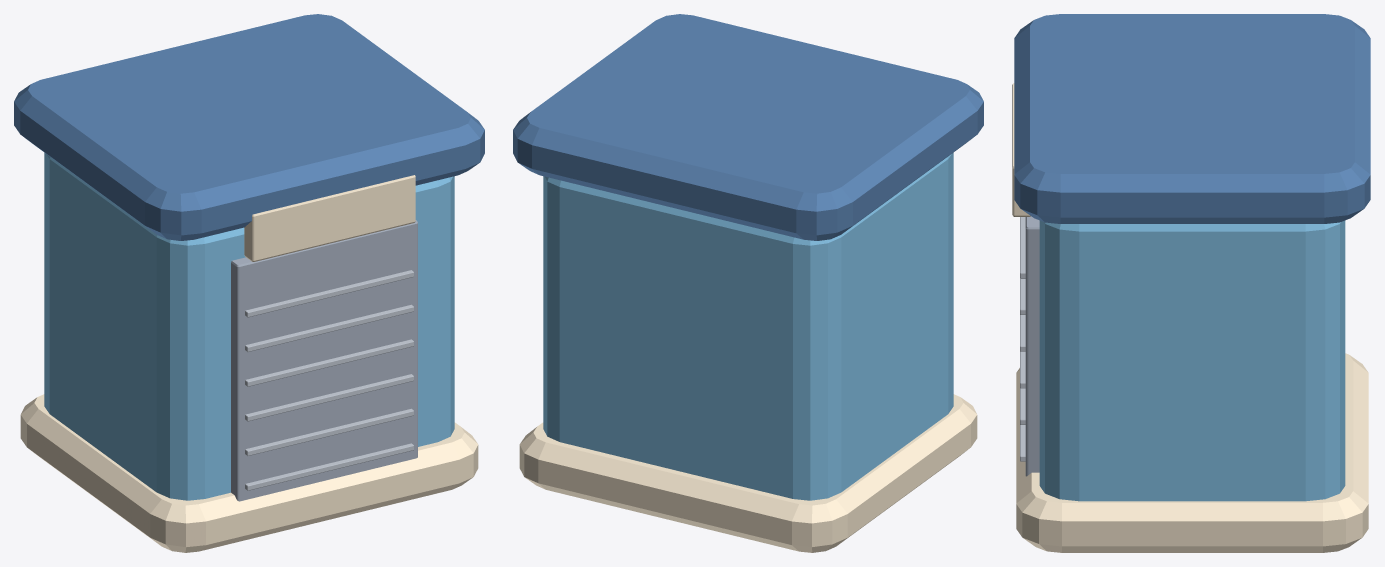
Rendered from warehouse_a.glb.
3 views of the same model, side by side, from view 1: azimuth 30°, elevation 25°; view 2: azimuth 150°, elevation 25°; view 3: azimuth 270°, elevation 25° (orthographic). The views are drawn at different scales.
Visible parts, largest first — view 1: roof, walls, loading_door, foundation, model; view 2: walls, roof, foundation; view 3: walls, roof, foundation, loading_door, model.
Part boxes in pixels (x1,y1,x2,y2): roof: (14,14,484,240); walls: (44,152,454,500); loading_door: (231,220,417,501); foundation: (20,394,478,552); model: (244,175,415,490); walls: (543,152,953,500); roof: (513,14,983,240); foundation: (519,394,977,552); walls: (1039,220,1345,501); roof: (1014,14,1370,223); foundation: (1016,353,1368,552); loading_door: (1025,216,1039,476); model: (1012,83,1030,461).
Size of the model in its own units: 2.5 by 2.6 by 2.2.
